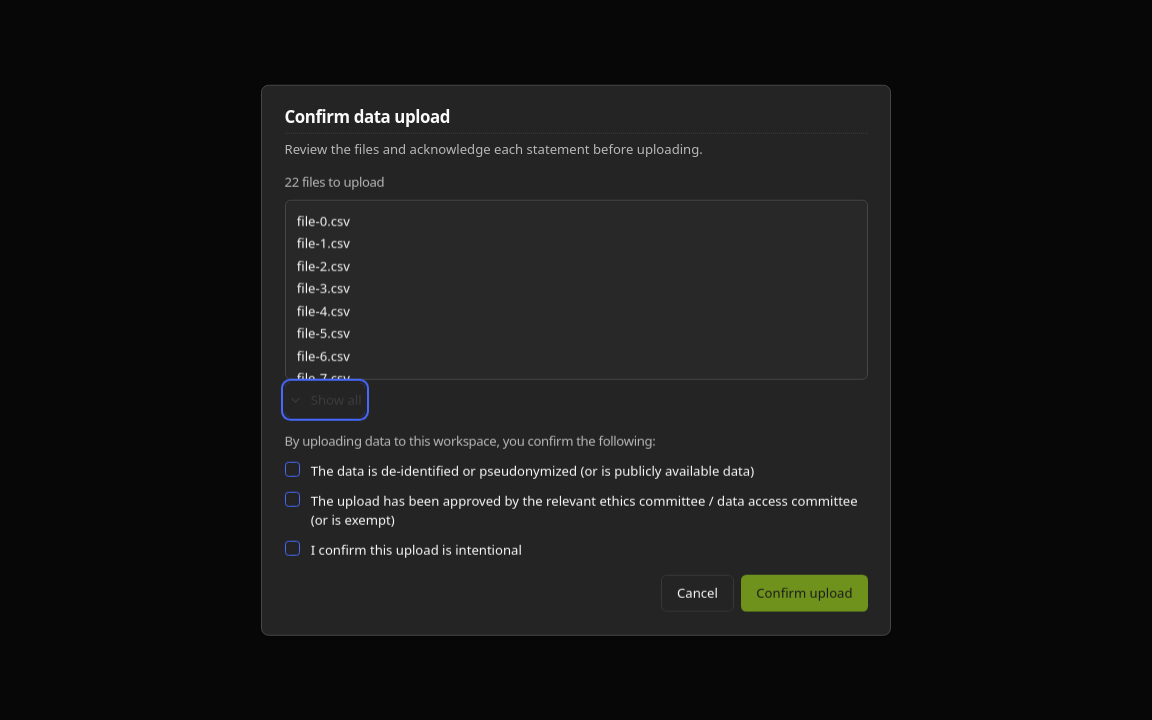
UploadComplianceDialog › truncates large batches and can reveal every file
Expected: the text "file-21.csv" is not shown
Click the button "Show all" at (325, 400), box [284, 383, 365, 417]
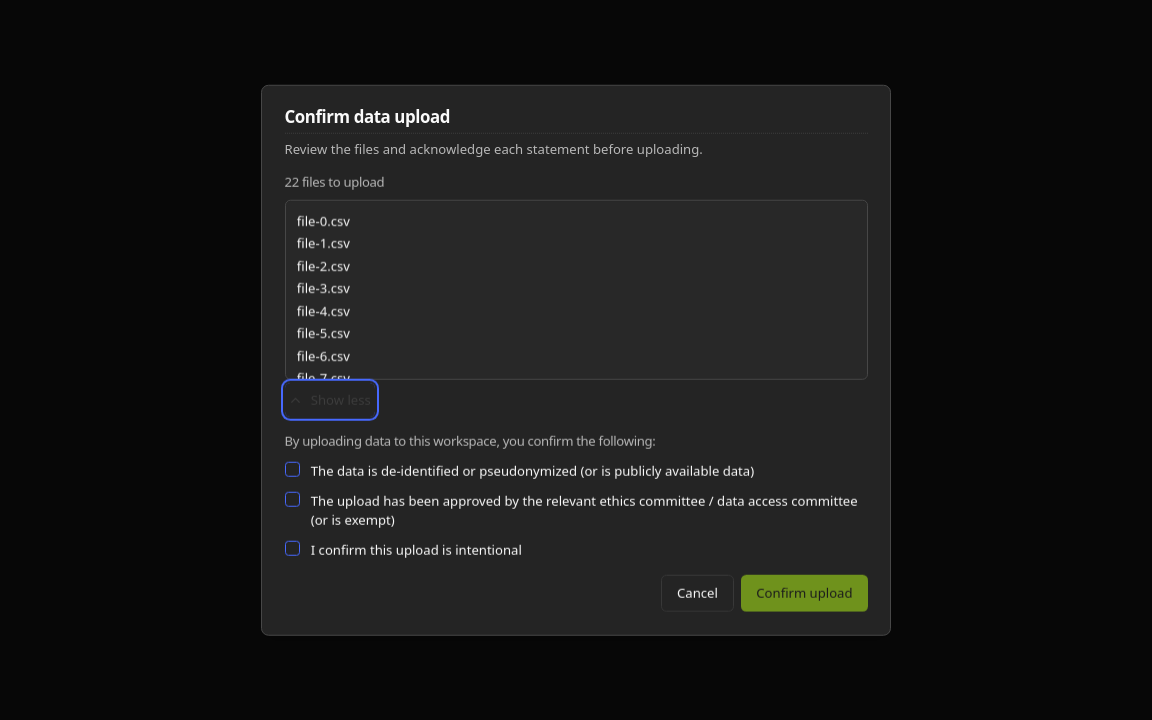
Result: the button "Show less" is expanded at [284, 383, 374, 417]
